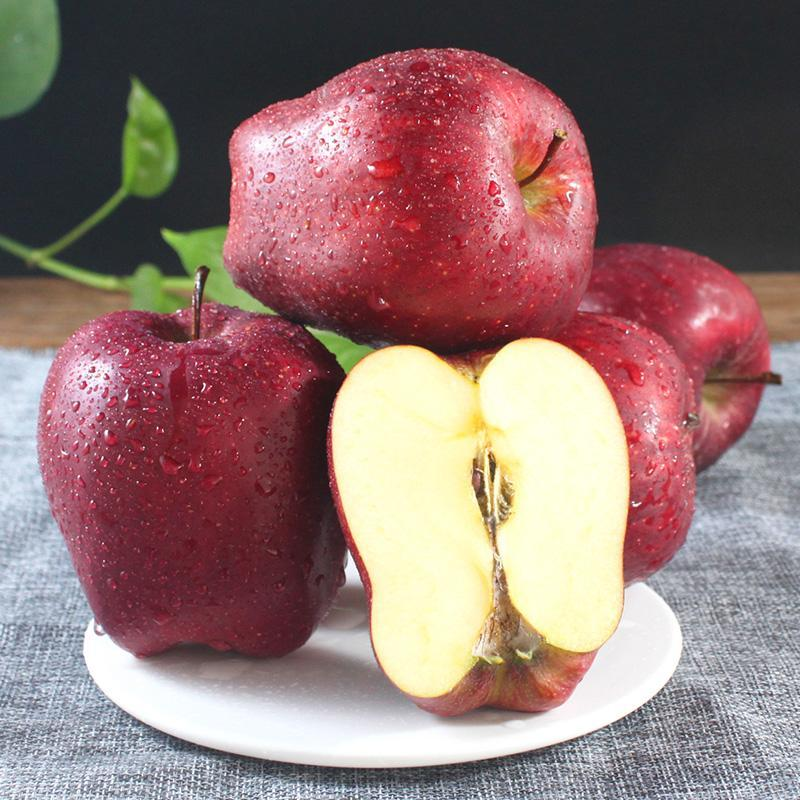apple: (230, 50, 598, 364), (38, 297, 341, 677)
